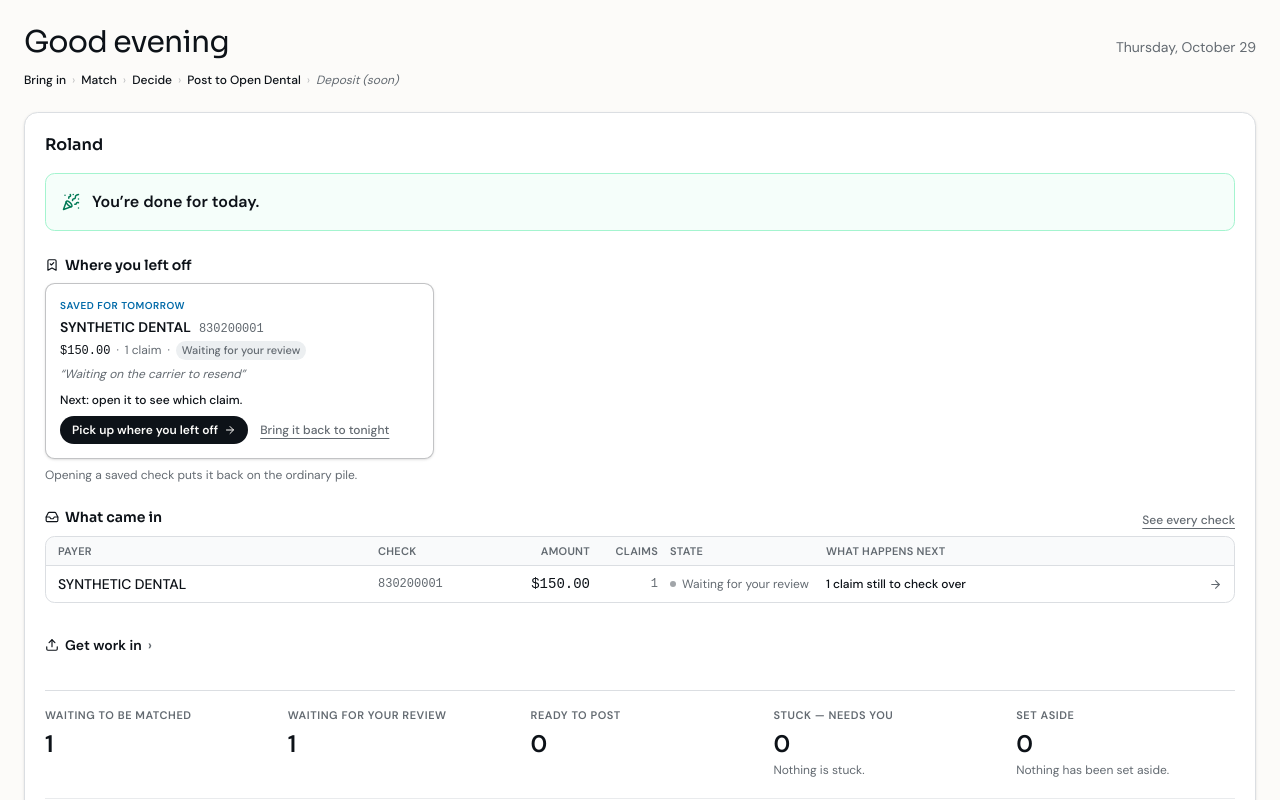
save for tomorrow › comes back to tonight from the card, without opening the check
The width and height of the screenshot is (1280, 800).
Click the button with test id "rcm-bring-back-b-1". click: click(325, 430)
box: [260,422,389,438]
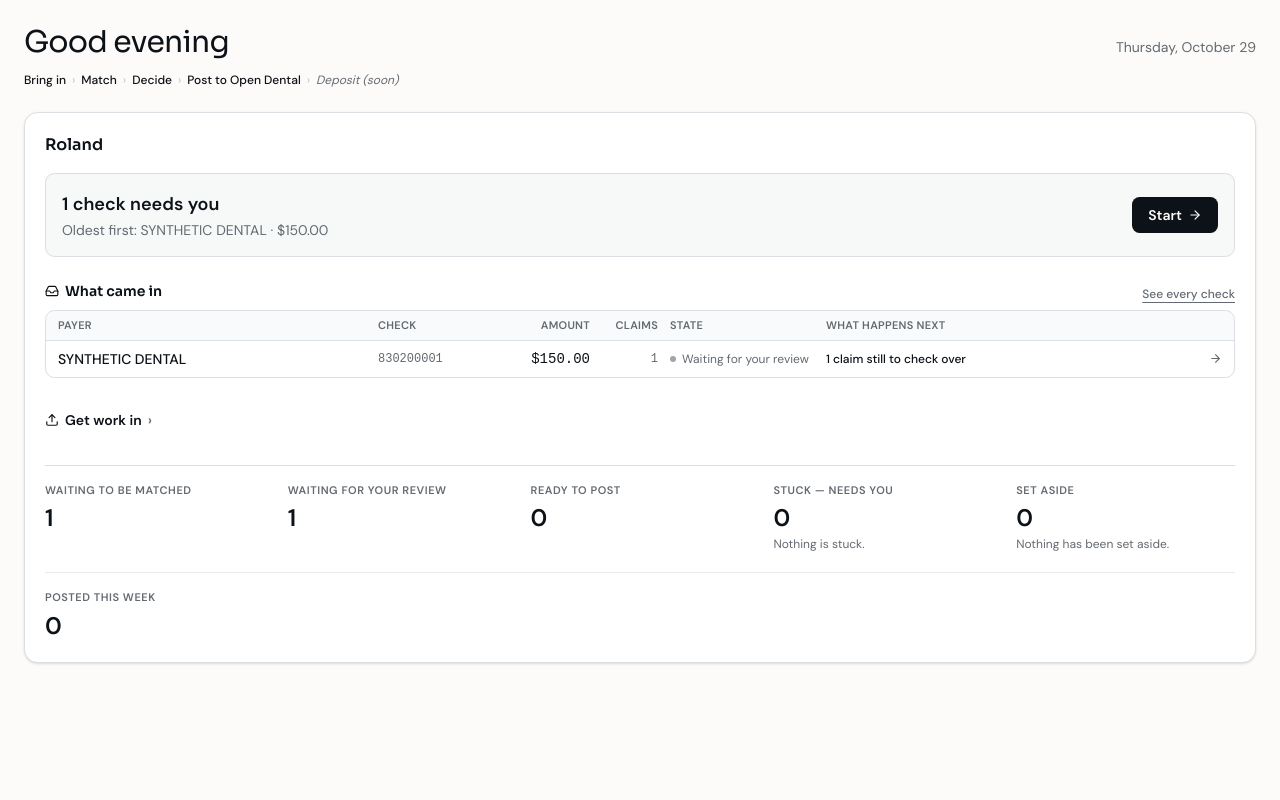
expect the list item with test id "rcm-left-off-row-b-1" is gone: met
